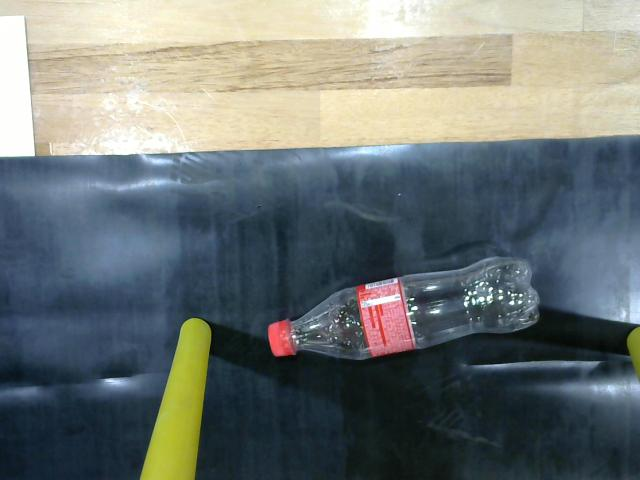bottle: (263, 253, 548, 371)
